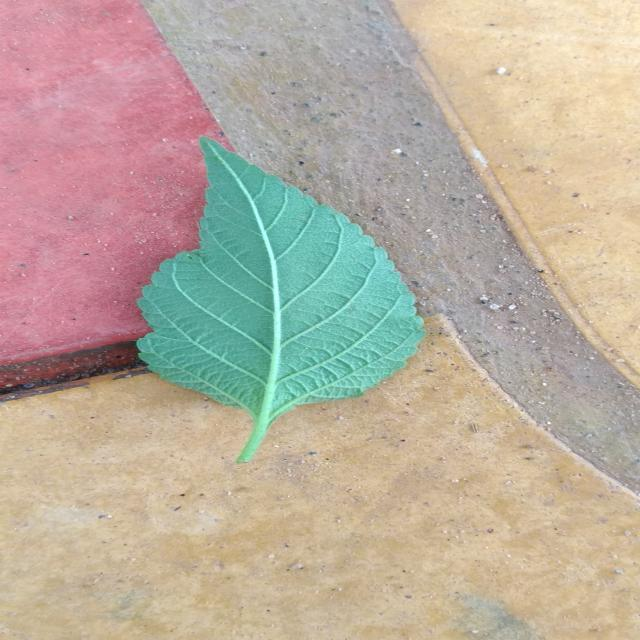Lantana: (138, 138, 424, 462)
